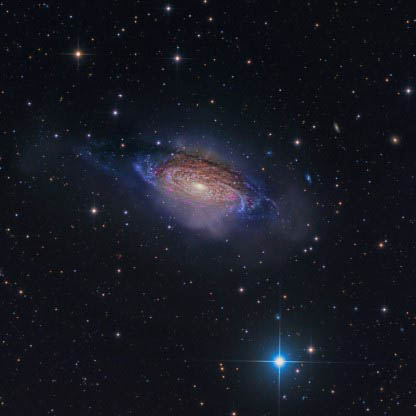NGC 3521: (73, 101, 329, 257)
